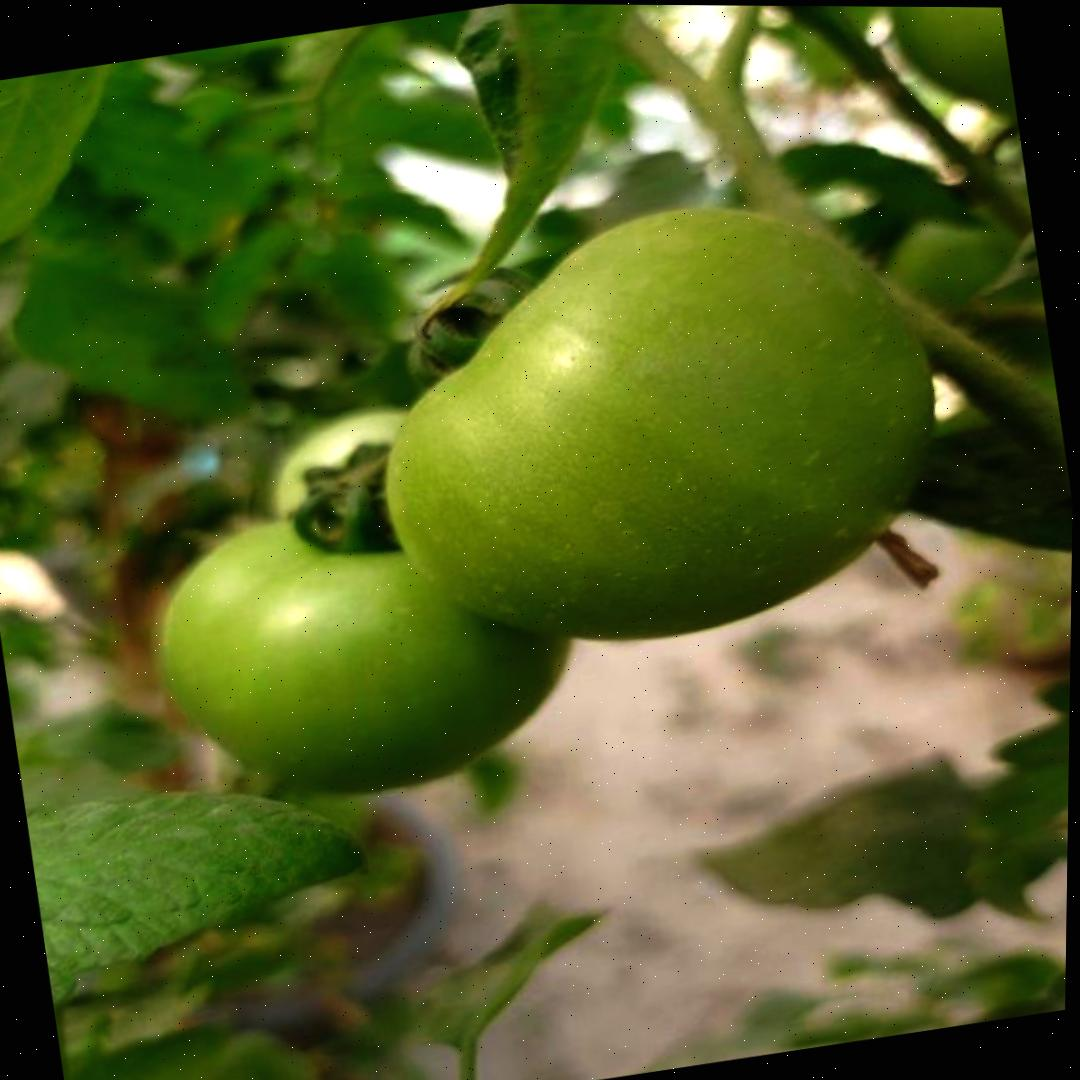mentah: (344, 166, 972, 678), (137, 465, 598, 823)
